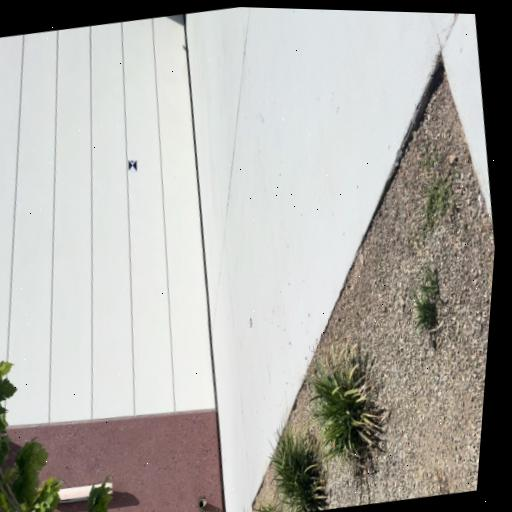target4: (128, 158, 137, 171)
